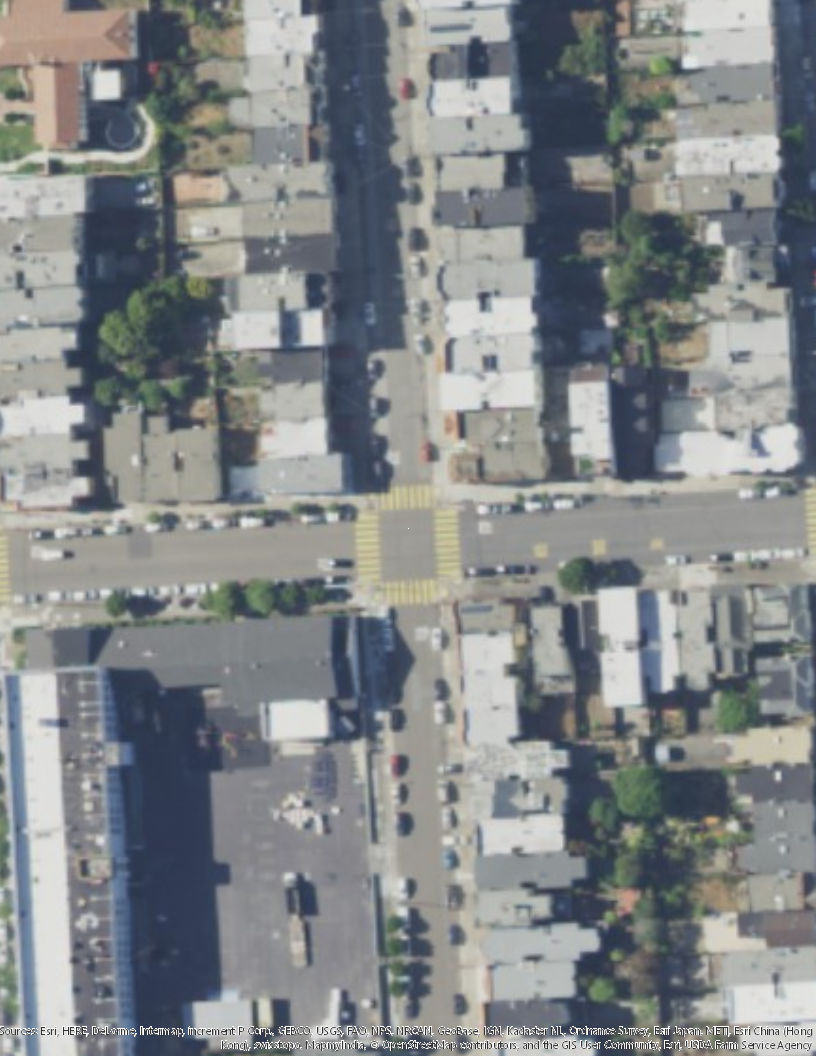zebracross: (435, 505, 463, 579), (354, 511, 382, 579), (386, 577, 441, 604), (378, 484, 436, 507), (1, 533, 12, 595), (803, 488, 816, 540)
